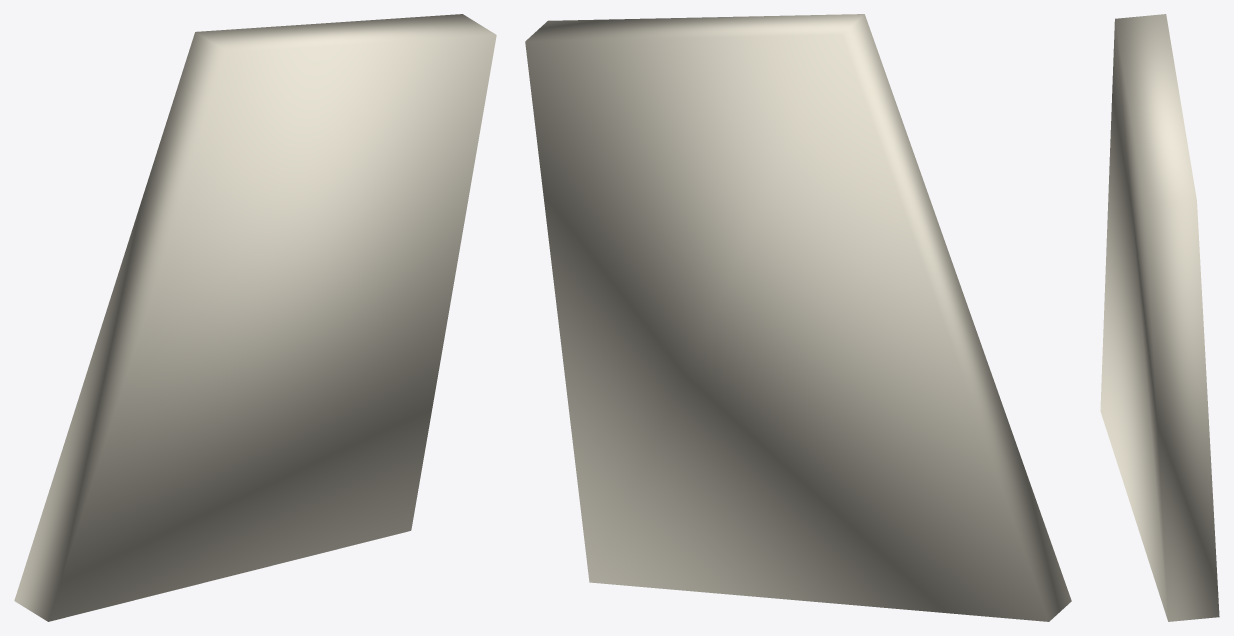
3 views of the same model, side by side, from view 1: azimuth 30°, elevation 25°; view 2: azimuth 150°, elevation 25°; view 3: azimuth 270°, elevation 25° (orthographic). The views are drawn at different scales.
Visible parts, largest first — view 1: ZA_9aaf5f2ad2245c63; view 2: ZA_9aaf5f2ad2245c63; view 3: ZA_9aaf5f2ad2245c63.
Part boxes in pixels (box(x1,y1,x2,y2)): ZA_9aaf5f2ad2245c63: box(14, 14, 496, 621); ZA_9aaf5f2ad2245c63: box(525, 14, 1071, 621); ZA_9aaf5f2ad2245c63: box(1100, 14, 1219, 621).
Size of the model in its own units: 0.00493 by 0.00544 by 0.00115.
